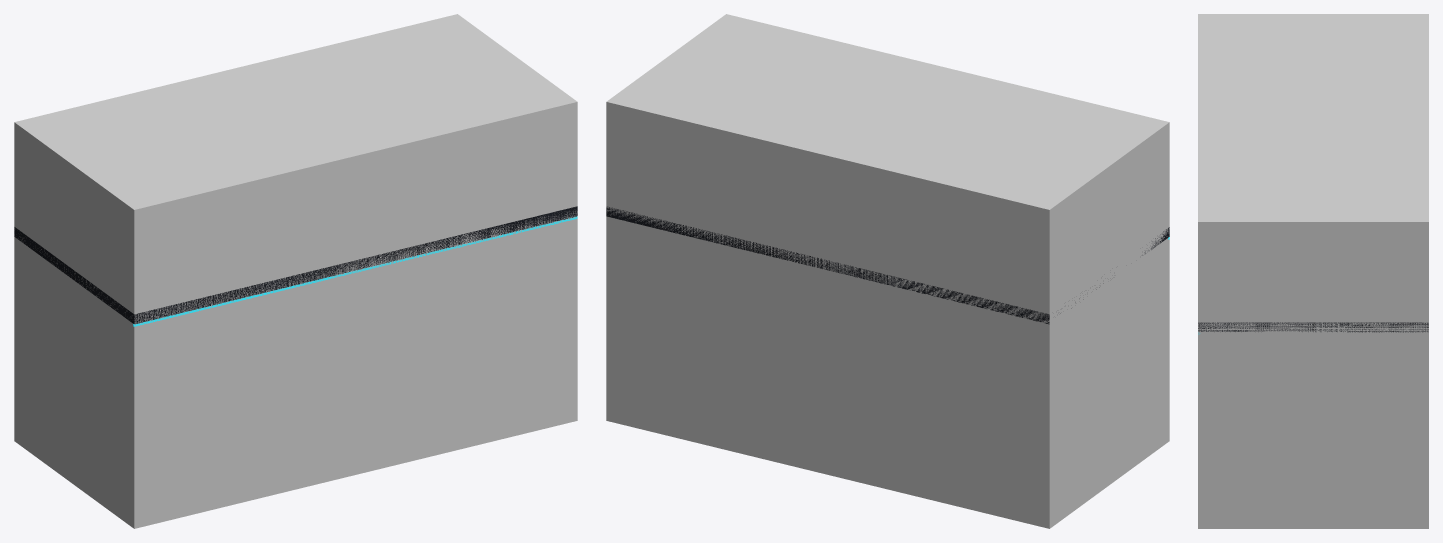
File: Furn_Desk_SitStand.gltf
3 renders of one model, left to right at view 1: azimuth 30°, elevation 25°; view 2: azimuth 150°, elevation 25°; view 3: azimuth 270°, elevation 25°, orthographic. The views are drawn at different scales.
Parts seen in each view (by area): view 1: Furn_Desk_SitStand_COL, Desk_SitStand_Top; view 2: Furn_Desk_SitStand_COL, Desk_SitStand_Top; view 3: Furn_Desk_SitStand_COL, Desk_SitStand_Top.
Boxes of the visible parts, bbox=[...] form: Furn_Desk_SitStand_COL: bbox=[14, 14, 577, 528]; Desk_SitStand_Top: bbox=[14, 206, 577, 326]; Furn_Desk_SitStand_COL: bbox=[606, 14, 1169, 528]; Desk_SitStand_Top: bbox=[606, 206, 1169, 324]; Furn_Desk_SitStand_COL: bbox=[1198, 14, 1428, 528]; Desk_SitStand_Top: bbox=[1198, 322, 1428, 334].
Size of the model in its own units: 1.6 by 1.1 by 0.75.
5 materials, 2 textured.
